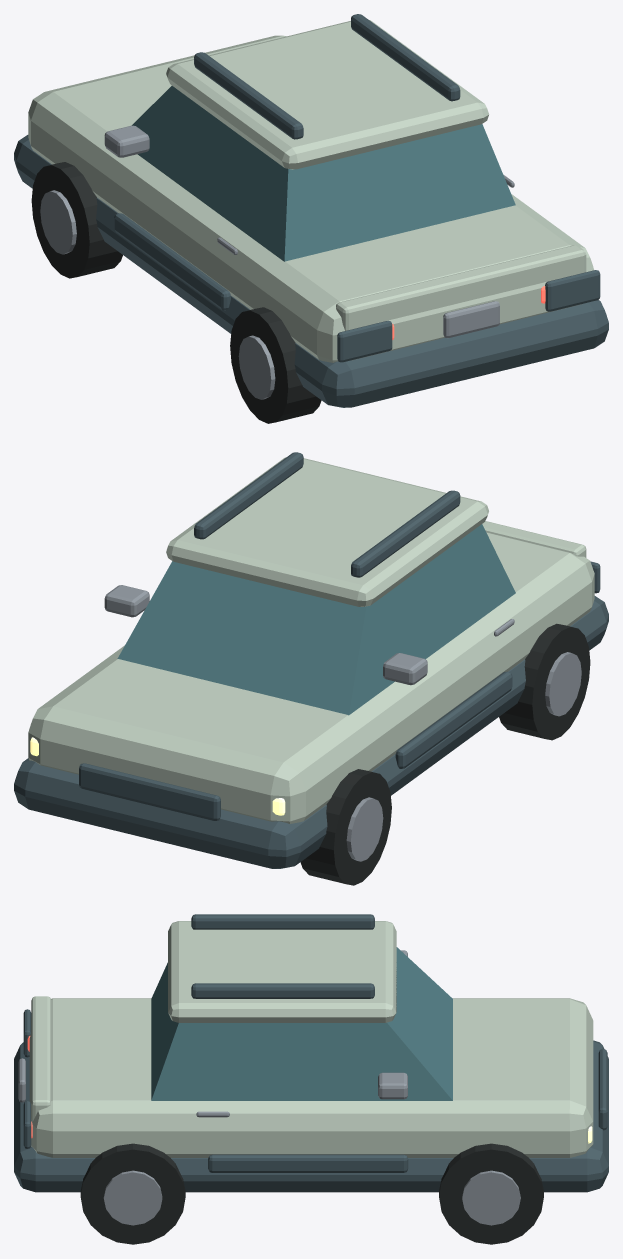
Rendered from utility.ev.glb.
3 views of the same model, one above another, from view 1: azimuth 30°, elevation 25°; view 2: azimuth 150°, elevation 25°; view 3: azimuth 270°, elevation 25° (orthographic). The views are drawn at different scales.
Parts seen in each view (by area): view 1: Paint, Sculpted glass cabin, Paint roof, Trim, Tailgate, Wheel_0, Wheel_2, Side rocker, Roof rack rail, Roof rack rail.001, Cylinder, Cylinder.002 (+4 smaller); view 2: Paint, Sculpted glass cabin, Paint roof, Trim, Wheel_2, Wheel_0, Front intake, Side rocker, Roof rack rail.001, Roof rack rail, Cylinder.002, Cylinder (+3 smaller); view 3: Paint, Sculpted glass cabin, Paint roof, Trim, Wheel_1, Wheel_3, Side rocker.001, Roof rack rail, Roof rack rail.001, Cylinder.001, Cylinder.003, Tailgate (+2 smaller).
Part boxes in pixels (x1=…): Paint: x1=28, y1=35, x2=593, y2=362; Sculpted glass cabin: x1=132, y1=86, x2=515, y2=261; Paint roof: x1=166, y1=20, x2=488, y2=169; Trim: x1=14, y1=135, x2=608, y2=407; Tailgate: x1=336, y1=245, x2=586, y2=330; Wheel_0: x1=31, y1=162, x2=122, y2=278; Wheel_2: x1=230, y1=307, x2=321, y2=423; Side rocker: x1=114, y1=213, x2=230, y2=310; Roof rack rail: x1=194, y1=52, x2=303, y2=139; Roof rack rail.001: x1=351, y1=14, x2=460, y2=101; Cylinder: x1=40, y1=190, x2=76, y2=254; Cylinder.002: x1=238, y1=335, x2=275, y2=399; Paint: x1=28, y1=532, x2=594, y2=823; Sculpted glass cabin: x1=117, y1=524, x2=515, y2=715; Paint roof: x1=166, y1=457, x2=488, y2=606; Trim: x1=14, y1=596, x2=608, y2=868; Wheel_2: x1=499, y1=623, x2=590, y2=740; Wheel_0: x1=300, y1=769, x2=391, y2=885; Front intake: x1=79, y1=763, x2=220, y2=820; Side rocker: x1=395, y1=671, x2=512, y2=768; Roof rack rail.001: x1=194, y1=452, x2=303, y2=539; Roof rack rail: x1=351, y1=490, x2=460, y2=577; Cylinder.002: x1=545, y1=652, x2=581, y2=716; Cylinder: x1=346, y1=797, x2=383, y2=861; Paint: x1=29, y1=998, x2=593, y2=1157; Sculpted glass cabin: x1=151, y1=947, x2=452, y2=1100; Paint roof: x1=168, y1=921, x2=396, y2=1022; Trim: x1=14, y1=1040, x2=608, y2=1192; Wheel_1: x1=439, y1=1143, x2=543, y2=1244; Wheel_3: x1=80, y1=1143, x2=185, y2=1244; Side rocker.001: x1=208, y1=1154, x2=408, y2=1172; Roof rack rail: x1=191, y1=914, x2=374, y2=929; Roof rack rail.001: x1=191, y1=983, x2=374, y2=998; Cylinder.001: x1=462, y1=1170, x2=520, y2=1225; Cylinder.003: x1=103, y1=1170, x2=162, y2=1225; Tailgate: x1=31, y1=996, x2=50, y2=1121.
Bounding box in the file's own units: 1.94 × 1.51 × 3.57.
